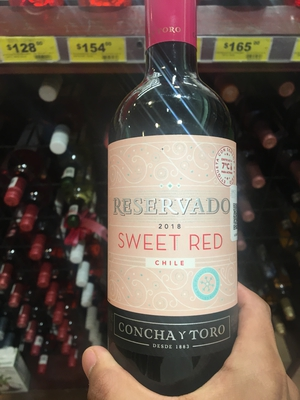reservado sweet red: (106, 9, 247, 364)
